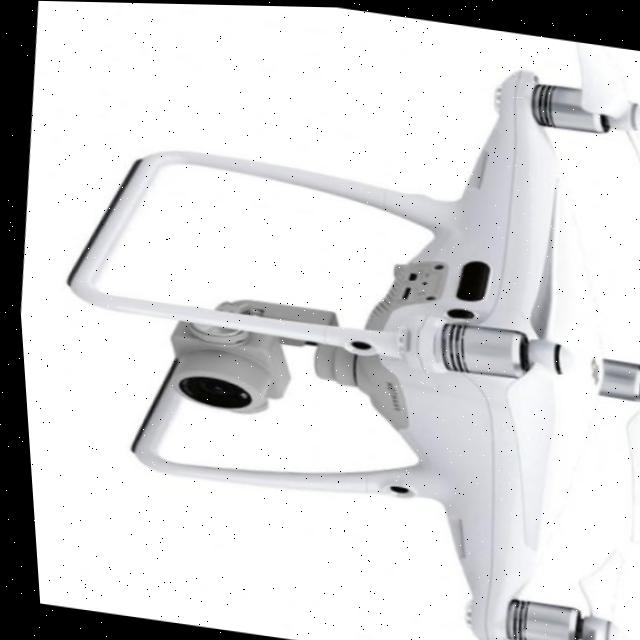drones: (9, 0, 640, 640)
